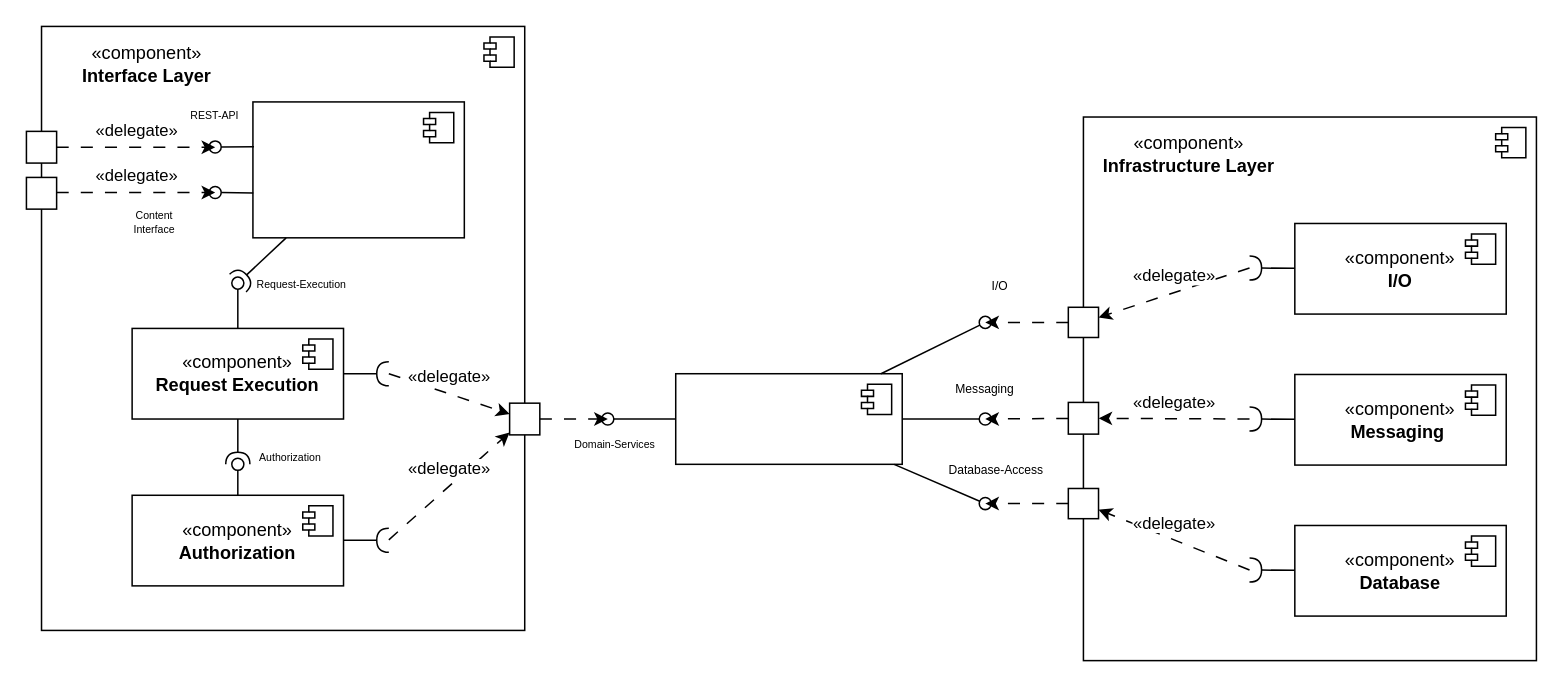
This 1563x687 diagram has some shape labels left out. Here are the shapes that lost their labels. From the top down, the centre of each, then its label:
At point 357,169: "«component» Request Dispatching".
At point 788,418: "«component» Domain".
